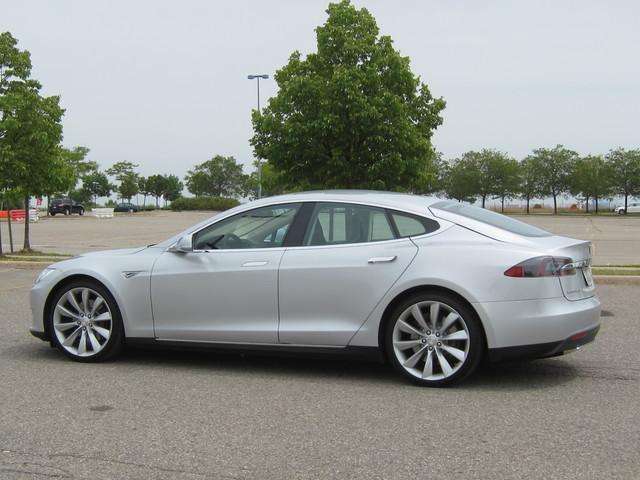car: (22, 159, 621, 429)
